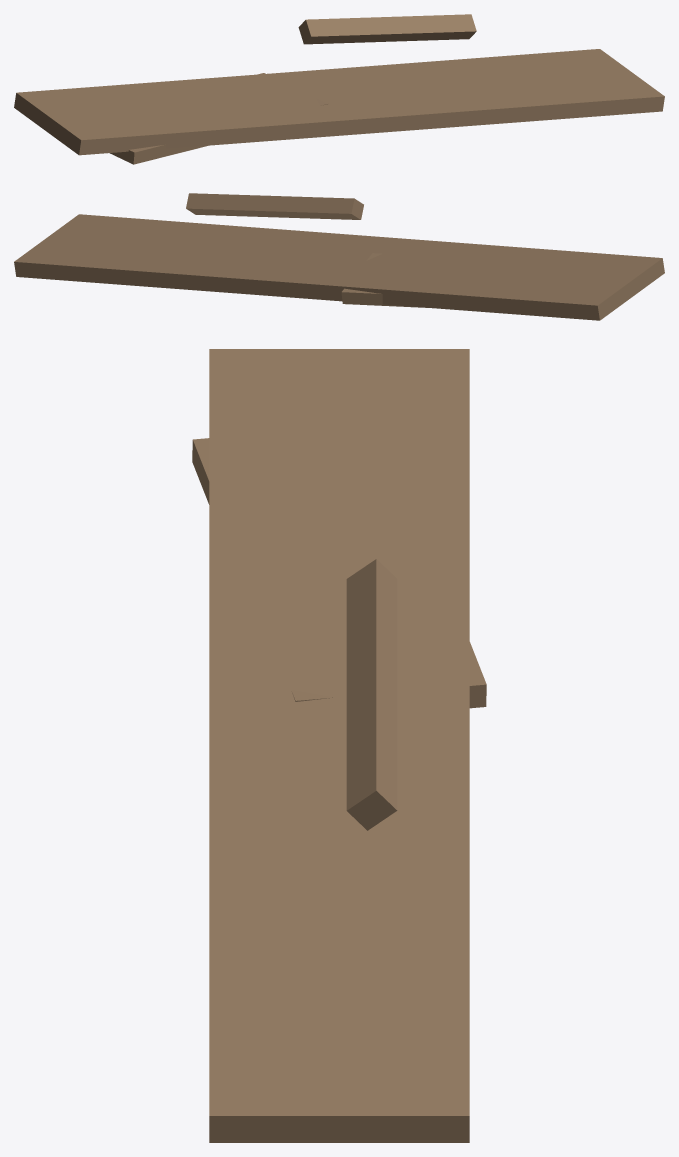
The model's file is dm_coffinlid.glb.
The picture shows the model from 3 angles, top to bottom: view 1: azimuth 30°, elevation 25°; view 2: azimuth 150°, elevation 25°; view 3: azimuth 270°, elevation 25°; orthographic projection. The views are drawn at different scales.
Parts seen in each view (by area): view 1: dm_coffinlid; view 2: dm_coffinlid; view 3: dm_coffinlid.
Part boxes in pixels (x1,y1,x2,y2): dm_coffinlid: [14, 14, 664, 164]; dm_coffinlid: [14, 193, 664, 320]; dm_coffinlid: [192, 349, 486, 1142].
Bounding box in the file's own units: 2.08 × 0.4692 × 0.453.
